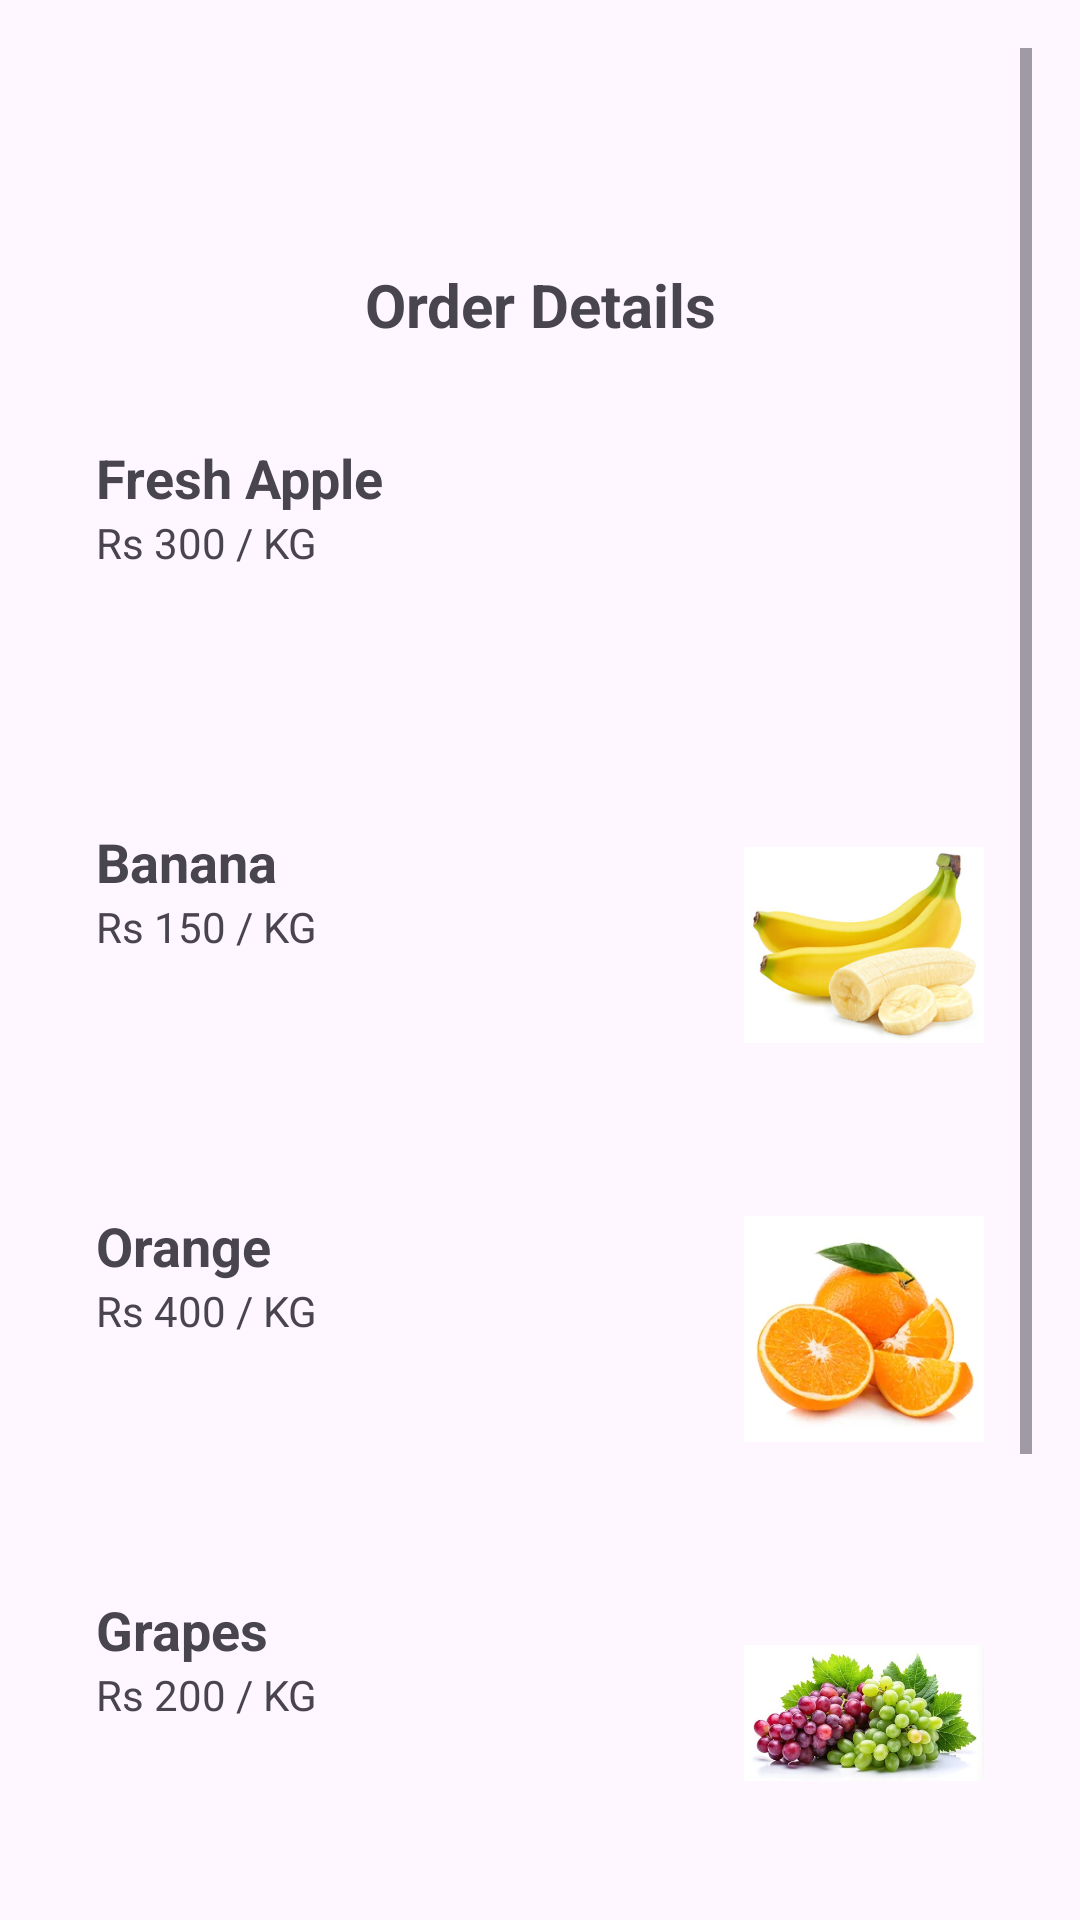

Point at icon controls on the screen. Image size 1080 × 1920, points as (x,y).
Banana: (864,945)
Grapes: (865,1714)
Orange: (865,1332)
